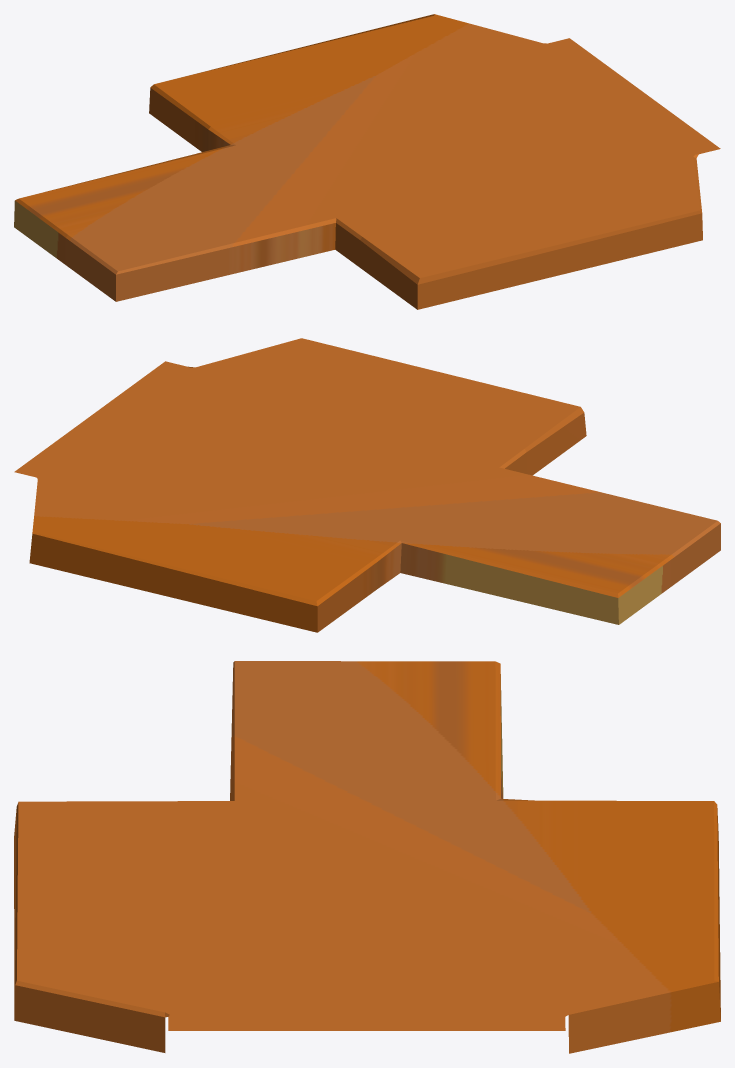
Rendered from Platform_P_1.fbx.
The picture shows the model from 3 angles, top to bottom: view 1: azimuth 30°, elevation 25°; view 2: azimuth 150°, elevation 25°; view 3: azimuth 270°, elevation 25°; orthographic projection. The views are drawn at different scales.
Parts seen in each view (by area): view 1: Platform_P_1; view 2: Platform_P_1; view 3: Platform_P_1.
Part boxes in pixels (bbox=[...]): Platform_P_1: bbox=[14, 14, 720, 309]; Platform_P_1: bbox=[14, 338, 720, 632]; Platform_P_1: bbox=[14, 661, 720, 1053].
Bounding box in the file's own units: 1983 × 96.83 × 1595.
